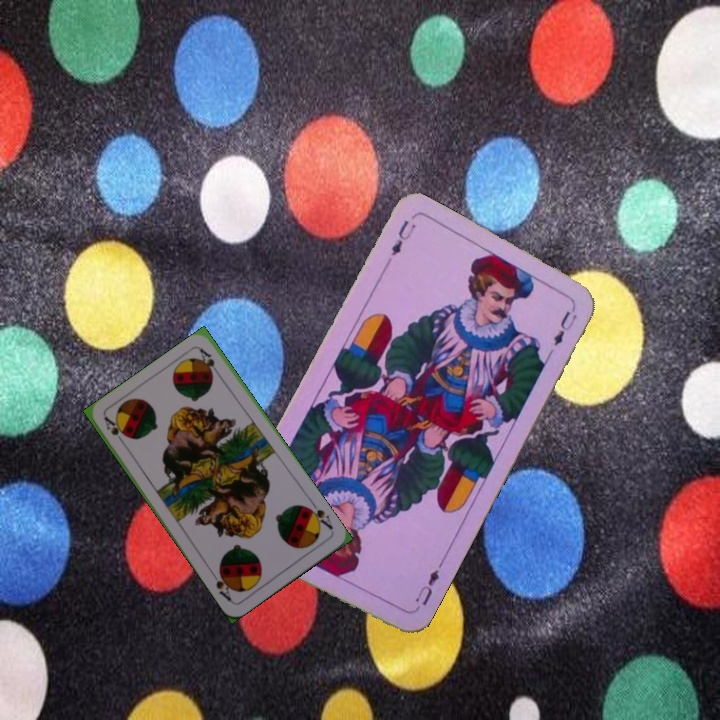EU: (387, 216, 419, 259), (411, 565, 442, 609)
SA: (302, 498, 335, 532), (100, 412, 128, 439)
